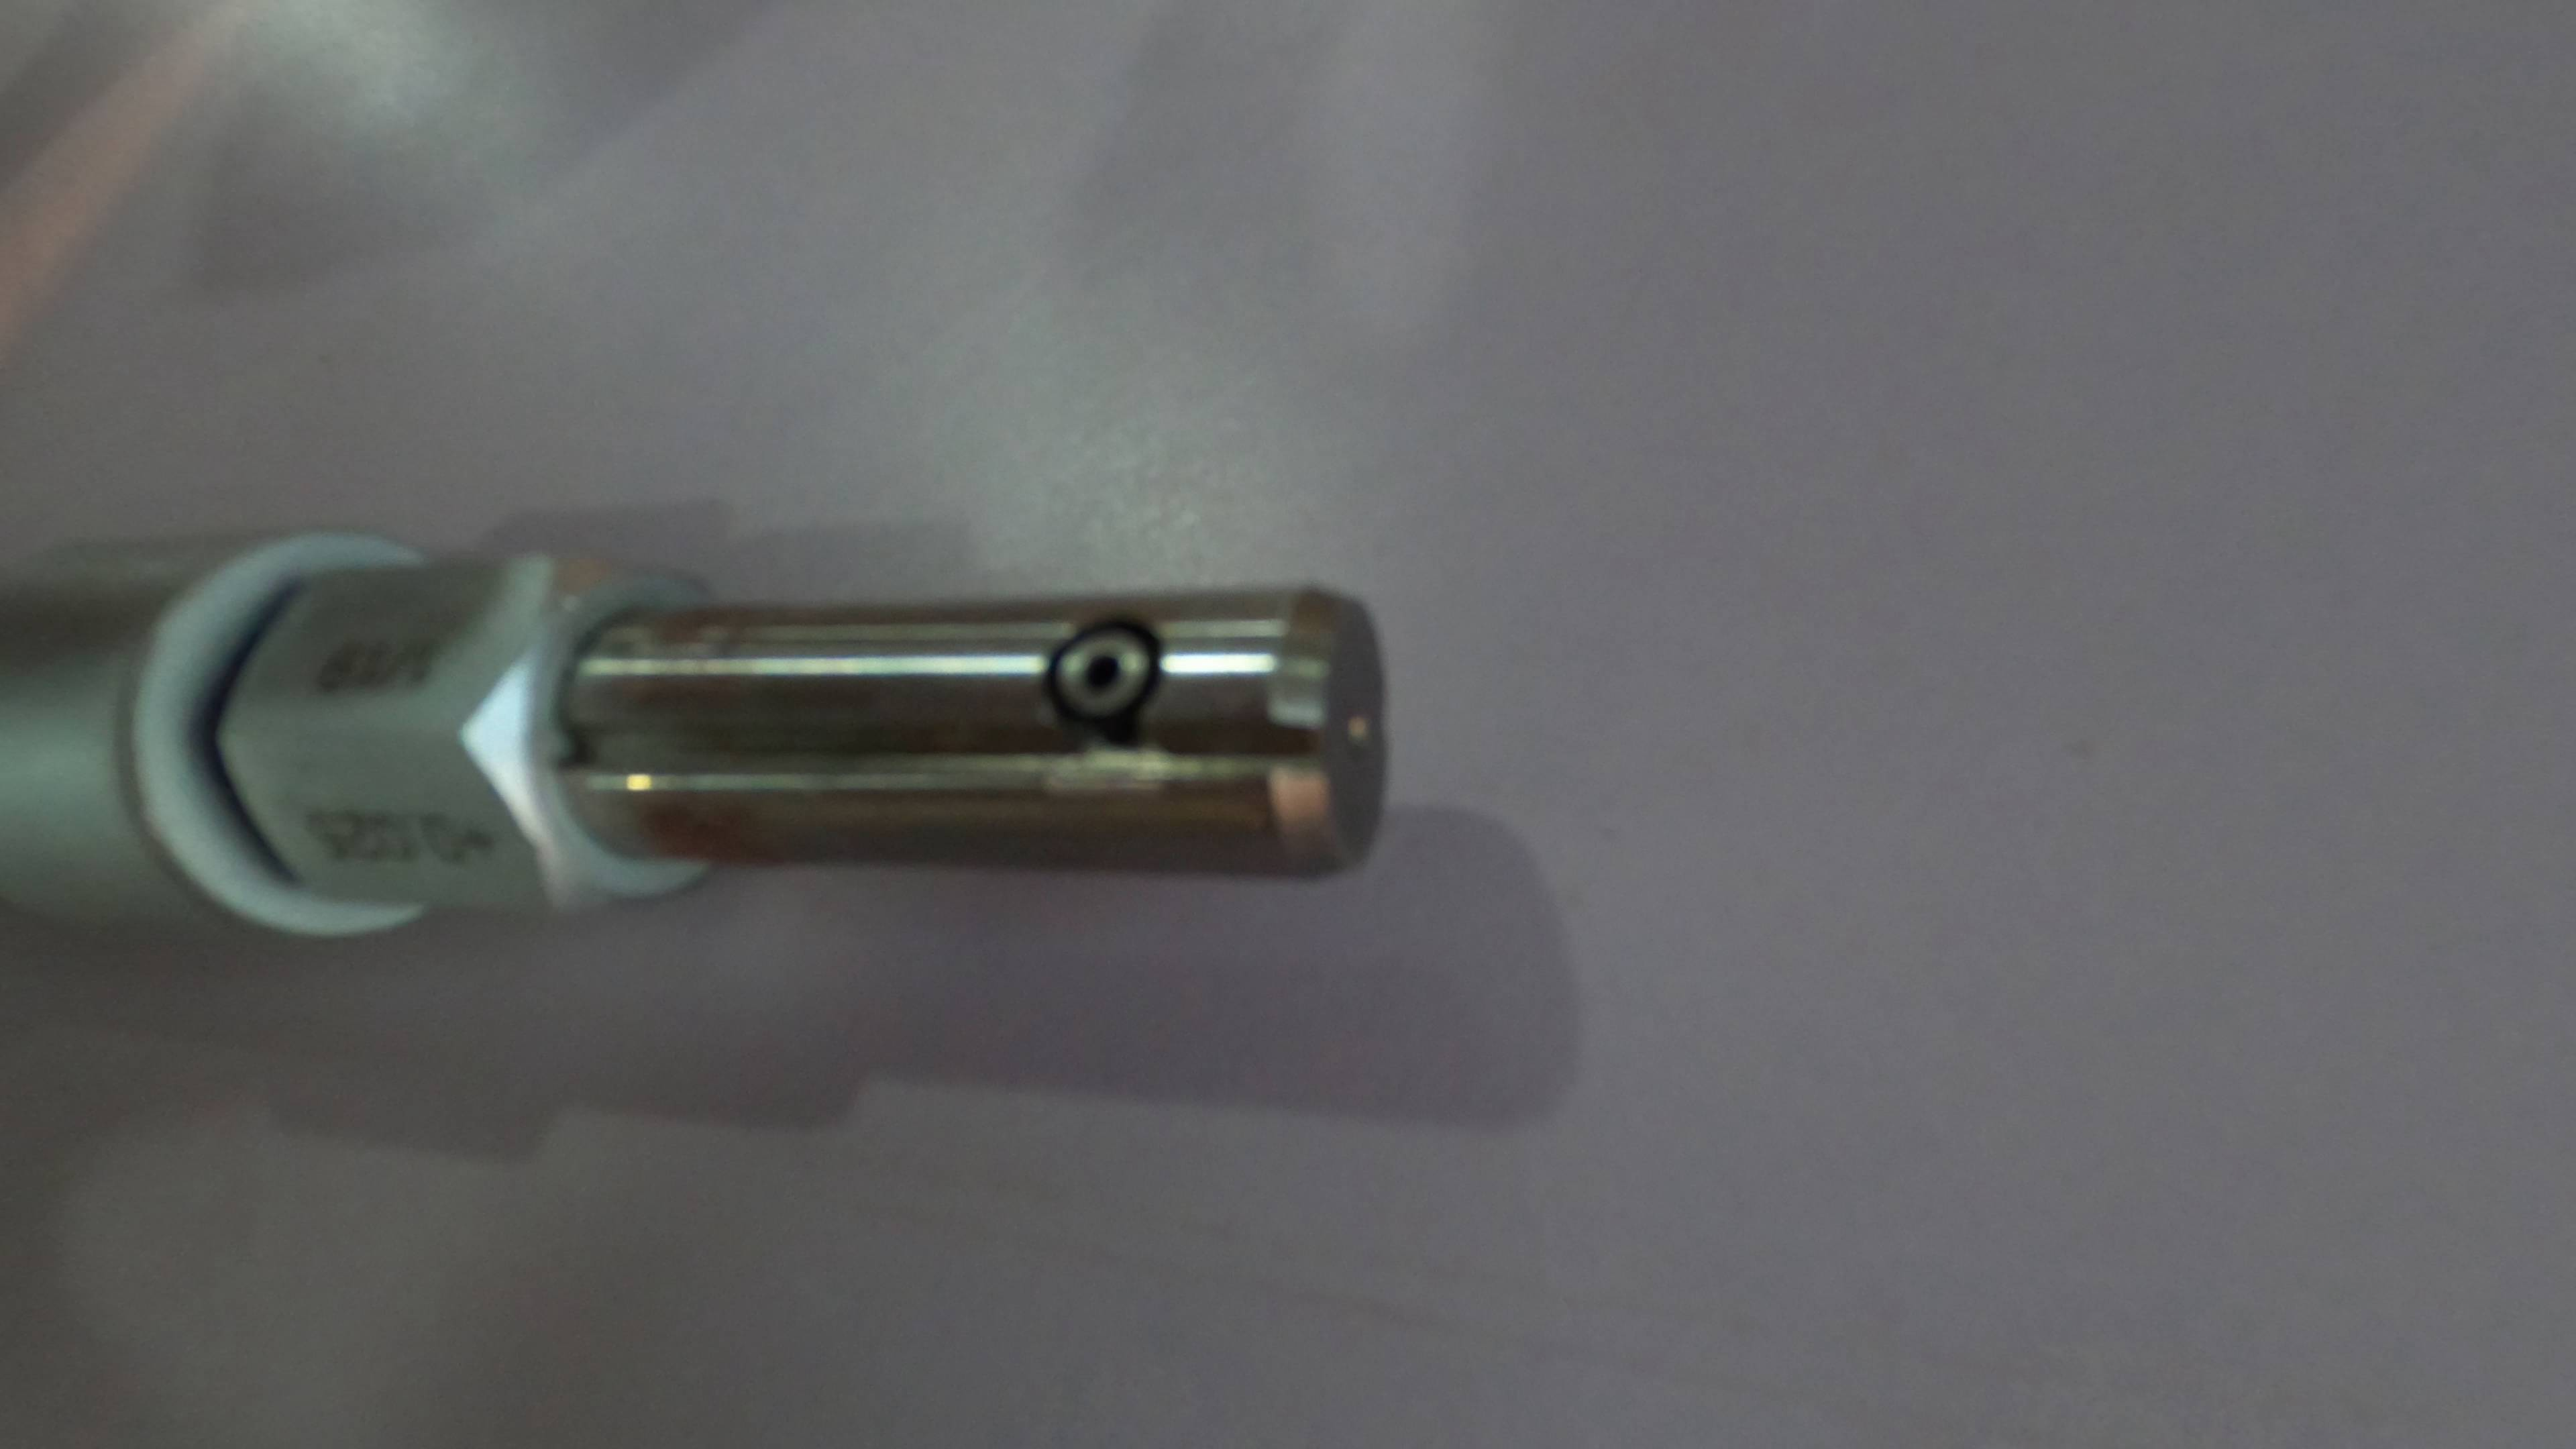air_gauge: (2, 533, 1399, 962)
